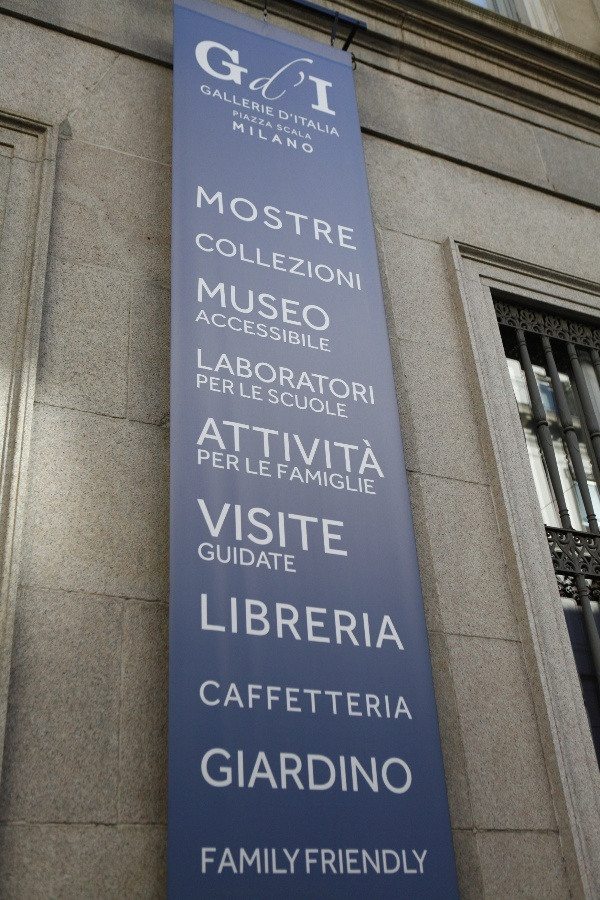text: (321, 32, 337, 126), (209, 32, 224, 126), (225, 32, 240, 126), (241, 32, 256, 126), (257, 32, 272, 126), (273, 32, 288, 126), (289, 32, 304, 126), (305, 32, 320, 126), (209, 180, 224, 255), (225, 180, 240, 255), (241, 180, 256, 255), (257, 180, 272, 255), (273, 180, 288, 255), (289, 180, 304, 255), (305, 180, 320, 255), (321, 180, 336, 255), (337, 180, 352, 255), (209, 414, 224, 483), (225, 414, 240, 483), (241, 414, 256, 483), (257, 414, 272, 483), (273, 414, 288, 483), (289, 414, 304, 483), (305, 414, 320, 483), (321, 414, 336, 483), (337, 414, 352, 483), (353, 414, 368, 483), (369, 414, 384, 483), (197, 32, 208, 126), (209, 228, 224, 295), (225, 228, 240, 295), (241, 228, 256, 295), (257, 228, 272, 295), (273, 228, 288, 295), (289, 228, 304, 295), (305, 228, 320, 295), (321, 228, 336, 295), (337, 228, 352, 295), (209, 496, 224, 562), (225, 496, 240, 562), (241, 496, 256, 562), (257, 496, 272, 562), (273, 496, 288, 562), (289, 496, 304, 562), (305, 496, 320, 562), (321, 496, 336, 562), (209, 345, 224, 409), (225, 345, 240, 409), (241, 345, 256, 409), (257, 345, 272, 409), (273, 345, 288, 409), (289, 345, 304, 409), (305, 345, 320, 409), (321, 345, 336, 409), (337, 345, 352, 409), (353, 345, 368, 409), (209, 275, 224, 338), (225, 275, 240, 338), (241, 275, 256, 338), (257, 275, 272, 338), (273, 275, 288, 338), (289, 275, 304, 338), (305, 275, 320, 338), (194, 228, 208, 295), (209, 591, 224, 653), (225, 591, 240, 653), (241, 591, 256, 653), (257, 591, 272, 653), (273, 591, 288, 653), (289, 591, 304, 653), (305, 591, 320, 653), (321, 591, 336, 653), (337, 591, 352, 653), (353, 591, 368, 653), (369, 591, 384, 653), (385, 591, 400, 653), (197, 180, 208, 255), (209, 747, 224, 800), (225, 747, 240, 800), (241, 747, 256, 800), (257, 747, 272, 800), (273, 747, 288, 800), (289, 747, 304, 800), (305, 747, 320, 800), (321, 747, 336, 800), (337, 747, 352, 800), (353, 747, 368, 800), (369, 747, 384, 800), (385, 747, 400, 800), (196, 496, 208, 562), (337, 496, 349, 562), (401, 747, 415, 800), (353, 228, 364, 295), (197, 345, 208, 409), (209, 309, 224, 354), (225, 309, 240, 354), (241, 309, 256, 354), (257, 309, 272, 354), (273, 309, 288, 354), (289, 309, 304, 354), (305, 309, 320, 354), (209, 677, 224, 722), (225, 677, 240, 722), (241, 677, 256, 722), (257, 677, 272, 722), (273, 677, 288, 722), (289, 677, 304, 722), (305, 677, 320, 722), (321, 677, 336, 722), (337, 677, 352, 722), (353, 677, 368, 722), (369, 677, 384, 722), (385, 677, 400, 722), (401, 677, 416, 722), (198, 275, 208, 338), (321, 275, 331, 338), (209, 81, 224, 119), (225, 81, 240, 119), (241, 81, 256, 119), (257, 81, 272, 119), (241, 119, 256, 156), (257, 119, 272, 156), (273, 119, 288, 156), (289, 119, 304, 156), (209, 539, 224, 576), (225, 539, 240, 576), (241, 539, 256, 576), (257, 539, 272, 576), (273, 539, 288, 576), (289, 462, 304, 497), (305, 462, 320, 497), (321, 462, 336, 497), (337, 462, 352, 497), (353, 462, 368, 497), (273, 386, 288, 420), (289, 386, 304, 420), (305, 386, 320, 420), (321, 386, 336, 420), (200, 591, 208, 653), (321, 309, 332, 354), (209, 845, 224, 877), (225, 845, 240, 877), (241, 845, 256, 877), (257, 845, 272, 877), (273, 845, 288, 877), (289, 108, 304, 139), (305, 108, 320, 139), (321, 108, 336, 139), (305, 847, 320, 878), (321, 847, 336, 878), (337, 847, 352, 878), (353, 847, 368, 878), (369, 847, 384, 878), (385, 847, 400, 878), (401, 847, 416, 878), (353, 180, 359, 255), (369, 345, 376, 409), (401, 591, 408, 653), (200, 747, 208, 800), (337, 386, 349, 420), (209, 371, 224, 398), (277, 462, 288, 497), (289, 845, 301, 877), (209, 449, 224, 474), (225, 449, 240, 474), (241, 380, 256, 404), (257, 456, 272, 480), (200, 677, 208, 722), (417, 847, 428, 878), (305, 119, 314, 156), (199, 539, 208, 576), (257, 109, 273, 129), (201, 309, 208, 354), (241, 109, 256, 129), (197, 371, 208, 398), (225, 371, 236, 398), (289, 539, 297, 576), (369, 462, 377, 497), (279, 108, 288, 139), (289, 123, 304, 141), (201, 81, 208, 119), (233, 119, 240, 156), (198, 449, 208, 474), (246, 456, 256, 480), (201, 845, 208, 877), (385, 414, 388, 483), (277, 123, 288, 141), (257, 380, 264, 404), (206, 414, 208, 483), (268, 386, 272, 420), (305, 123, 312, 141), (337, 108, 341, 139), (234, 109, 240, 129), (273, 81, 275, 119)
